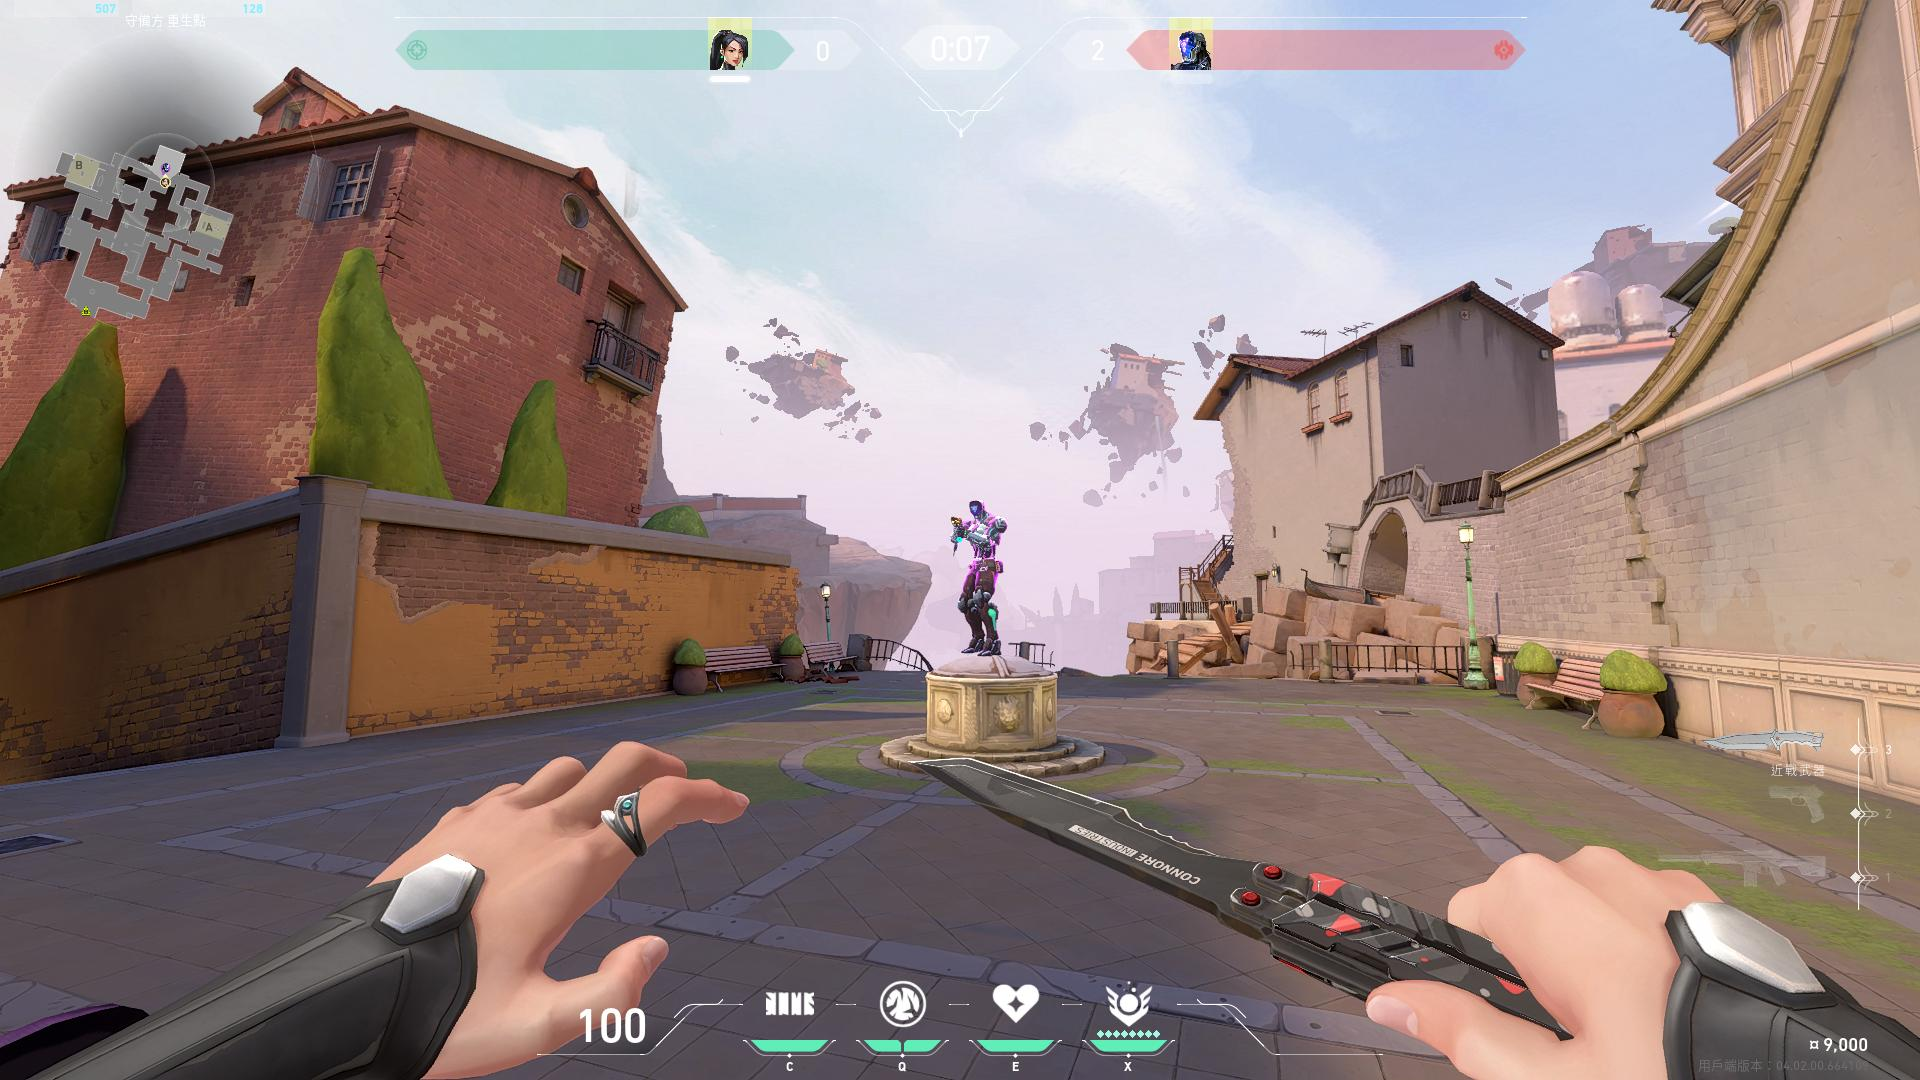enemyBody: (971, 521, 997, 564)
enemyHead: (971, 501, 986, 517)
